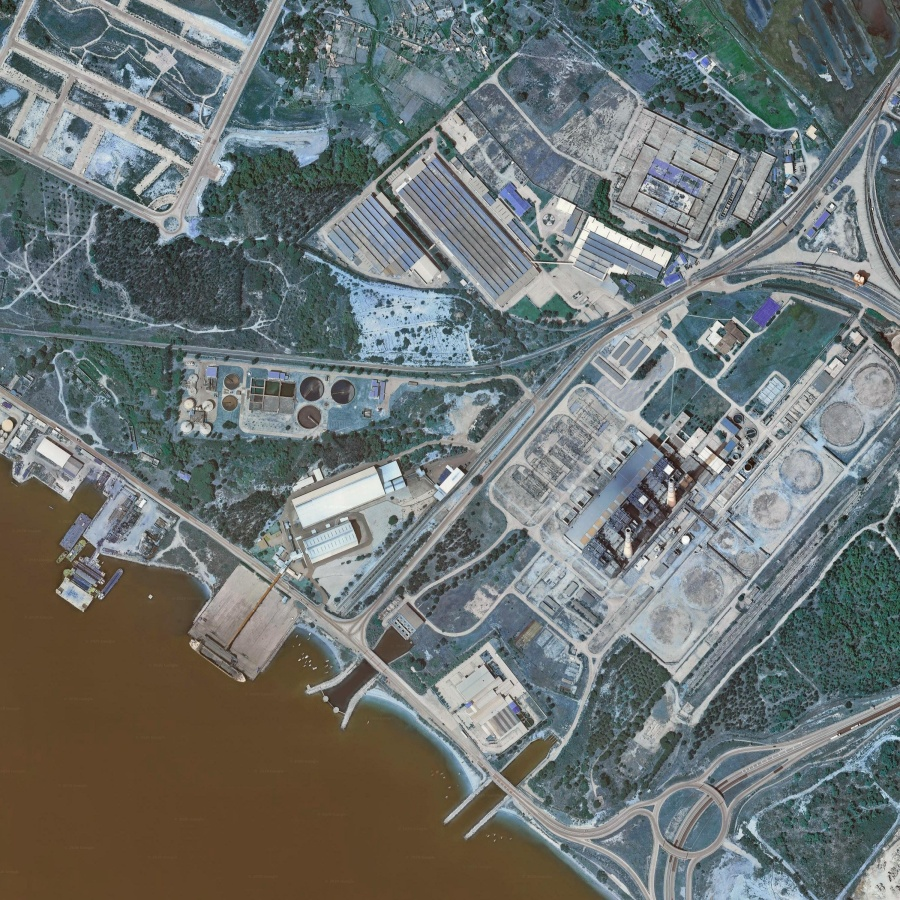PowerPlant: (524, 310, 898, 651)
